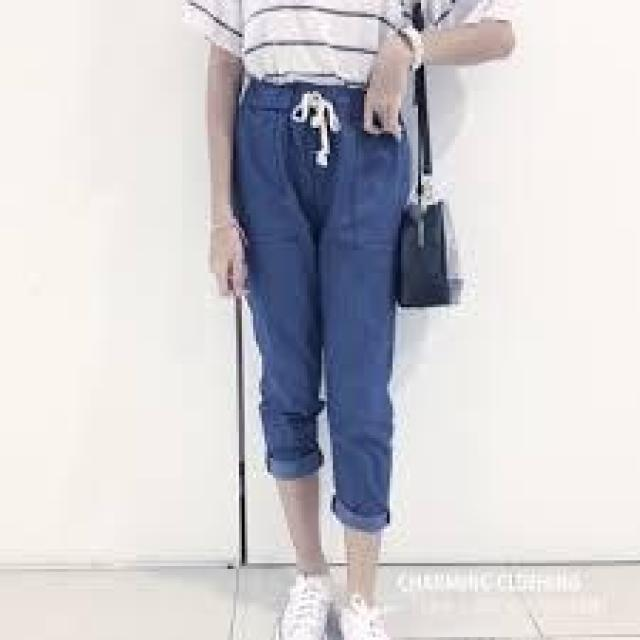Tshirt: (181, 0, 519, 91)
pants: (219, 71, 424, 543)
